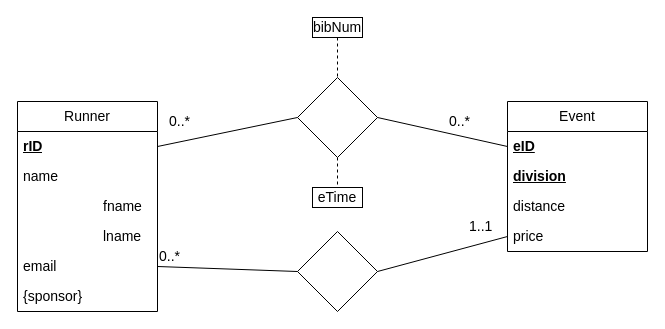
Image size: 665x329. Some labels were removed from this diagram. Each missing label, with the centre of its shape:
"Entry" belongs at [337,117].
"Win" belongs at [337,271].
